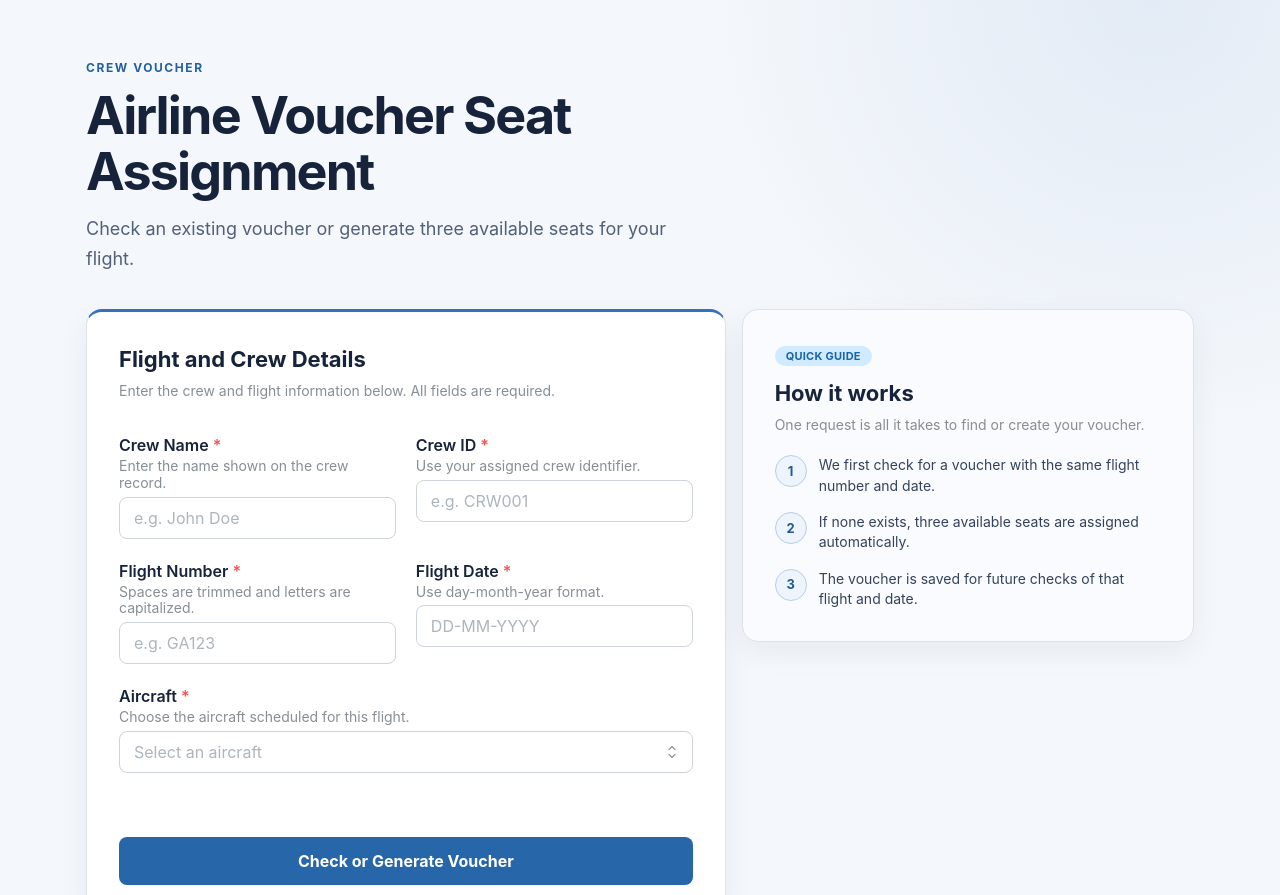
Test case: App › displays an existing voucher without generating a new one
In the field labelled "Crew Name": (257, 518) [119, 497, 396, 539], type "Jane Doe"
In the field labelled "Crew ID": (554, 501) [416, 480, 693, 522], type "CRW001"
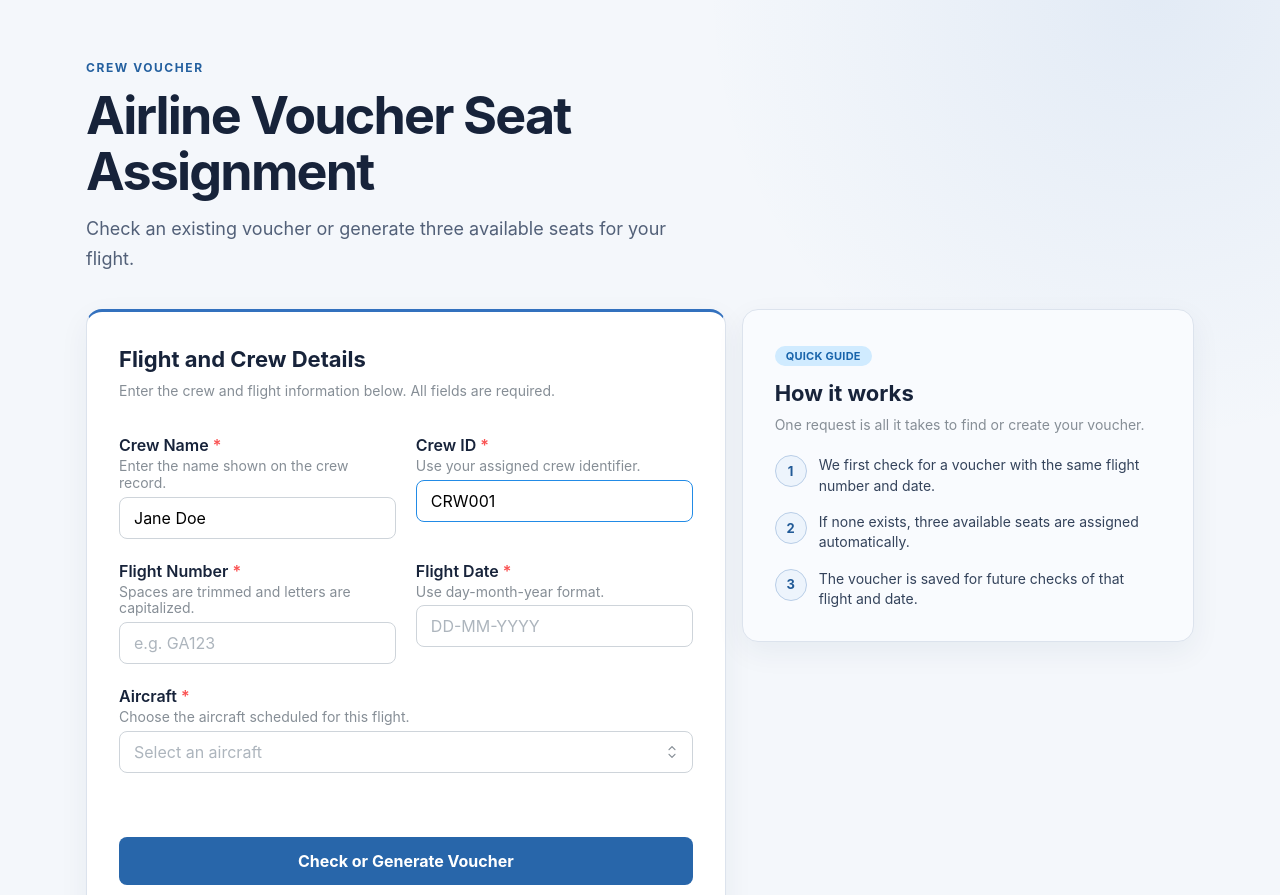
In the field labelled "Flight Number": (257, 643) [119, 622, 396, 664], type " ga123 "
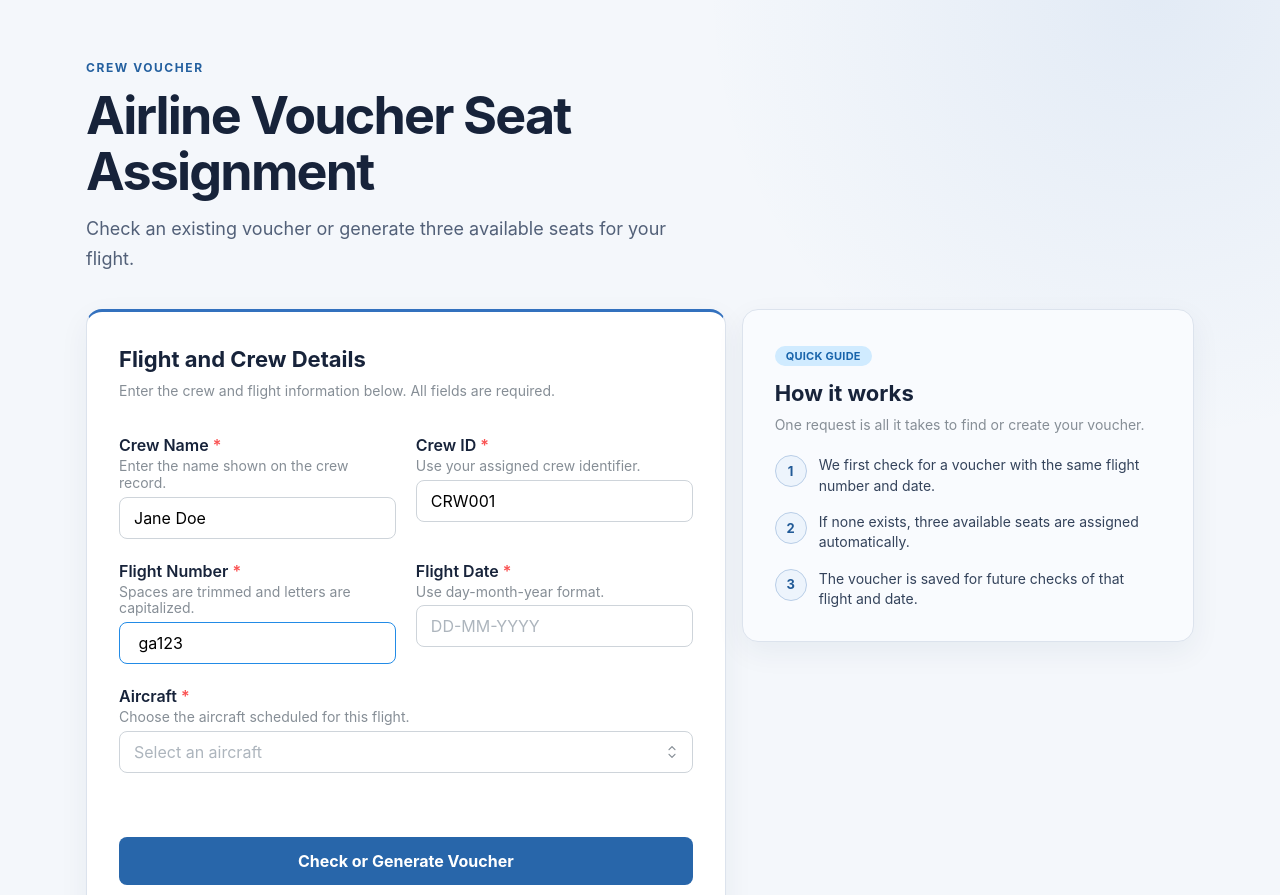
In the field labelled "Flight Date": (554, 626) [416, 605, 693, 647], type "05-08-2026"
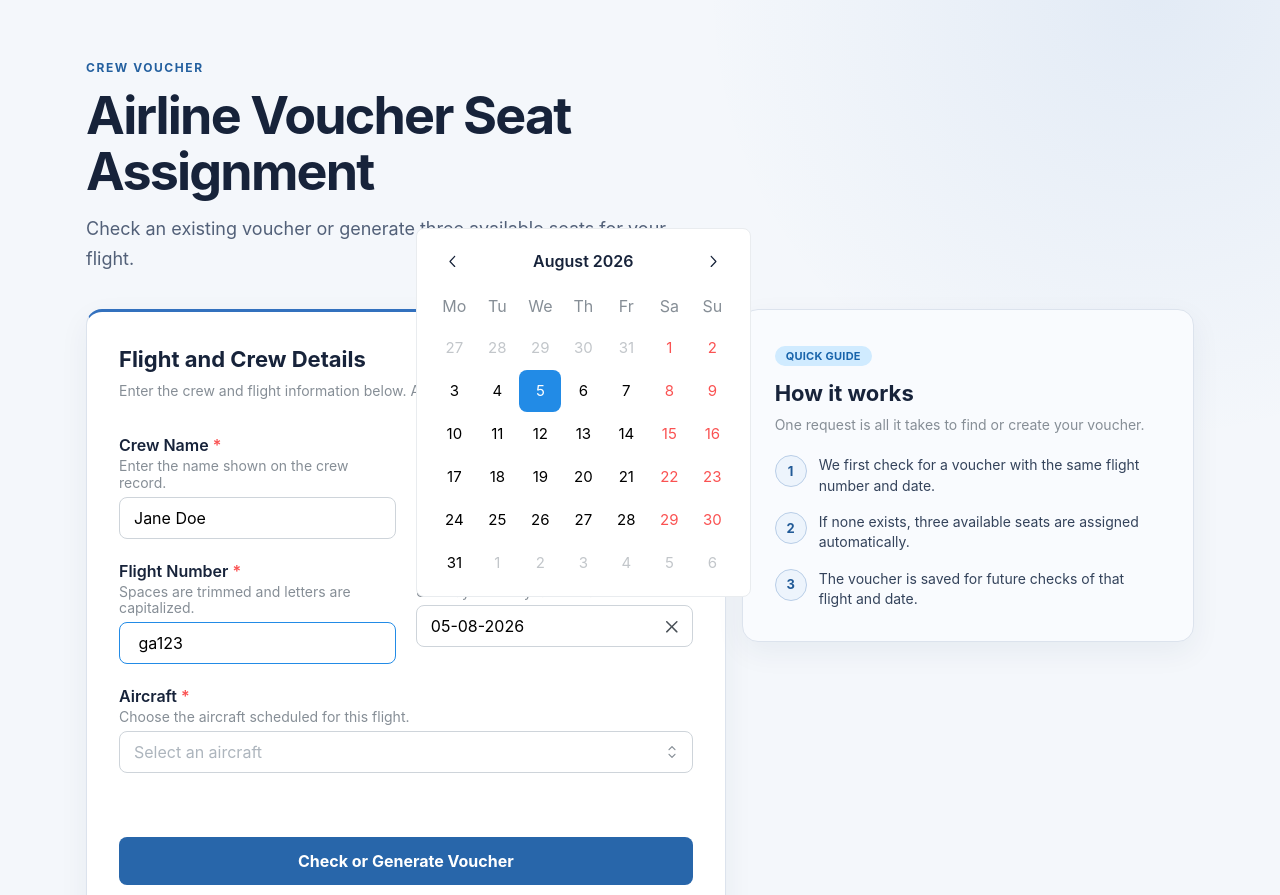
Click the dropdown labelled "Aircraft": (406, 752) [119, 731, 693, 773]
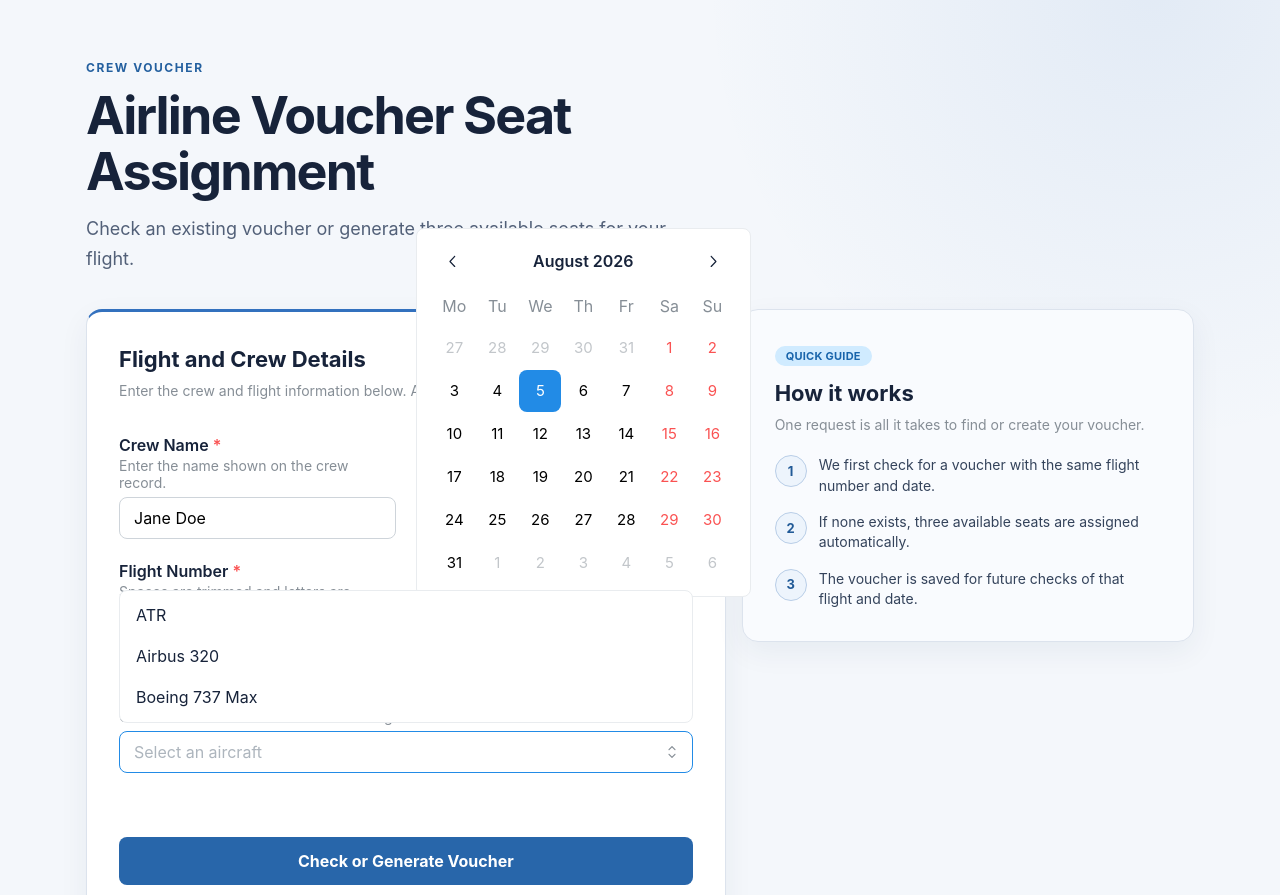
Click the option "ATR": (151, 615) [136, 605, 166, 625]
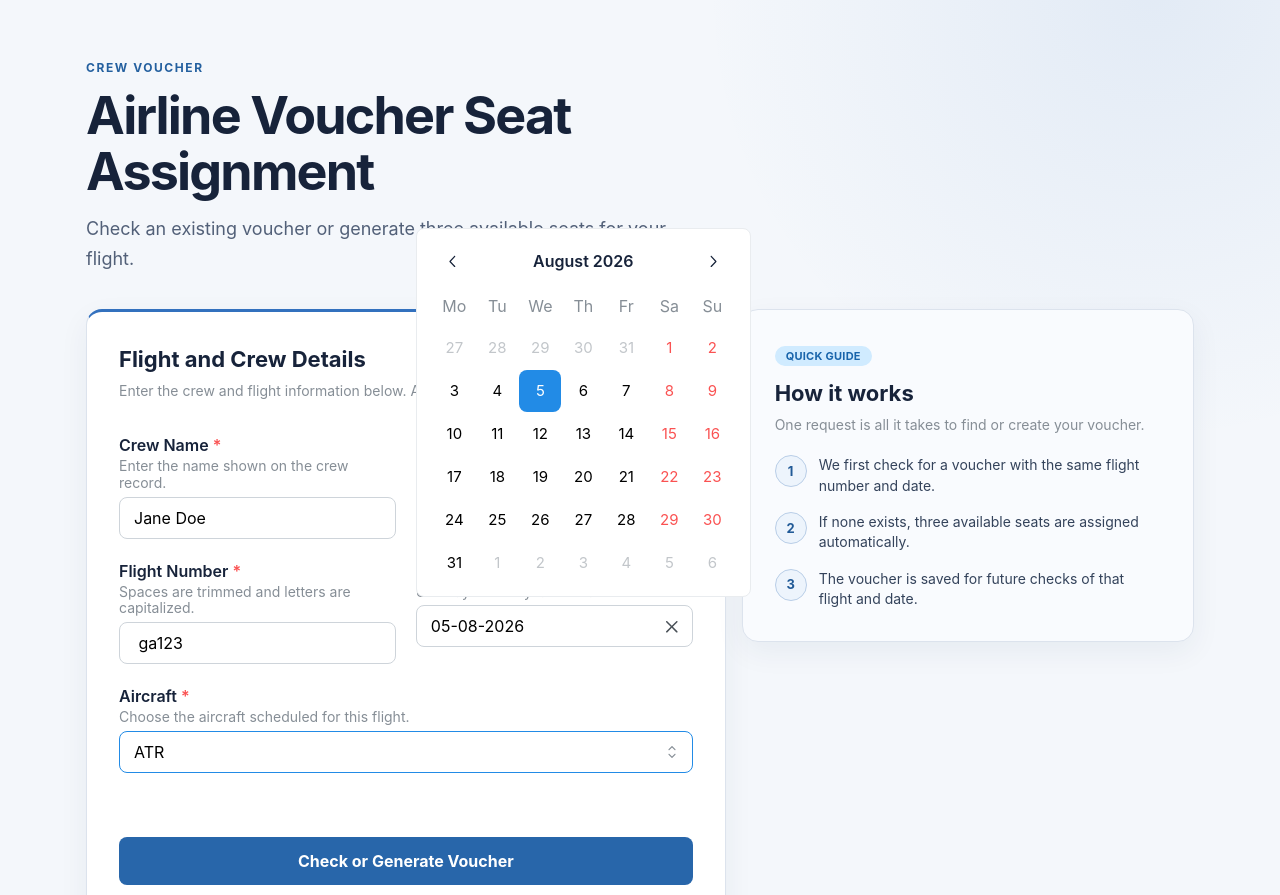
Click the button "Check or Generate Voucher": (406, 861) [119, 837, 693, 885]
(page scrolled)
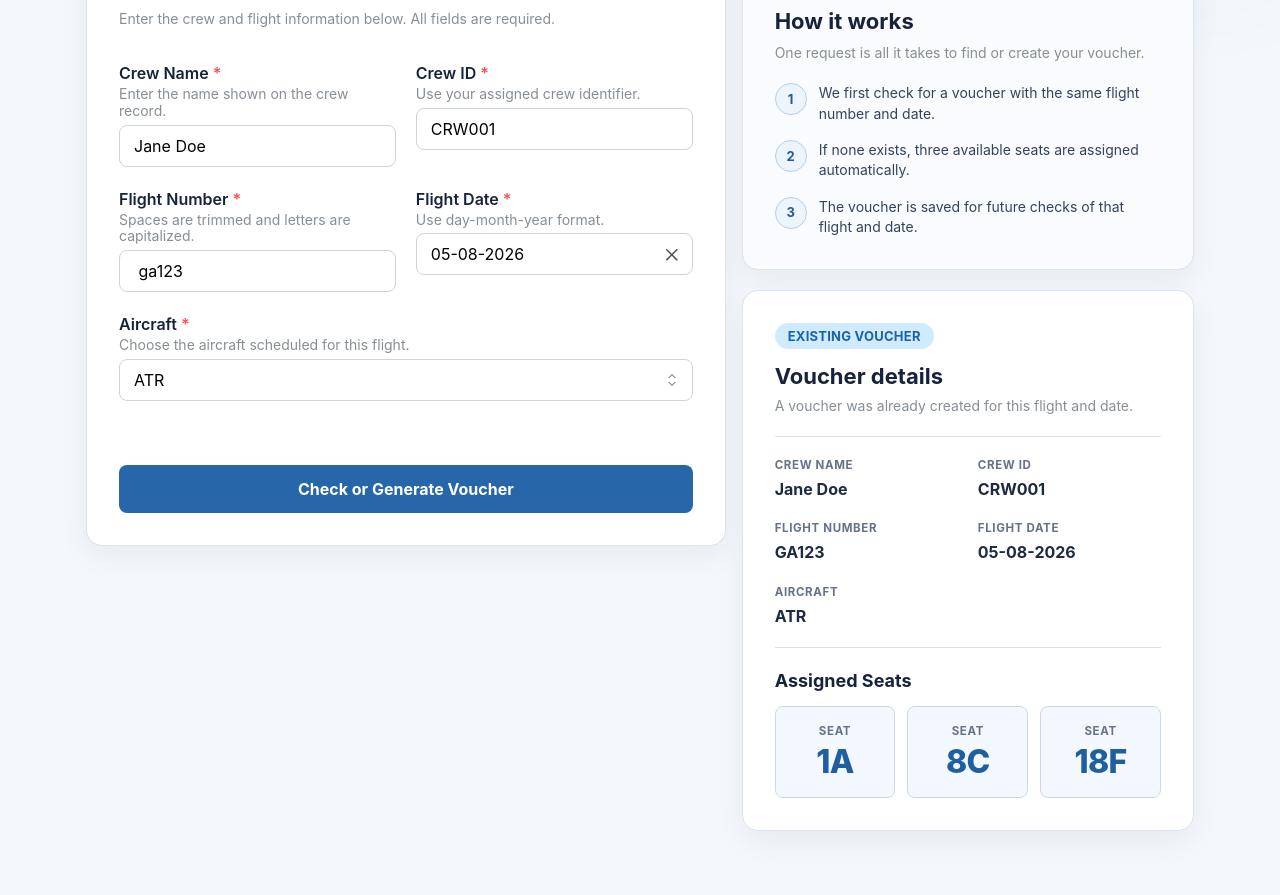
Now the text "Existing voucher" is shown, box [788, 324, 921, 348]
Now the text "A voucher was already created for this flight and date." is shown, box [775, 396, 1161, 416]
Now the text "05-08-2026" is shown, box [978, 542, 1076, 562]
